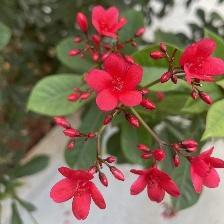jatropha: (87, 52, 147, 114), (50, 165, 108, 222), (180, 38, 224, 88)
